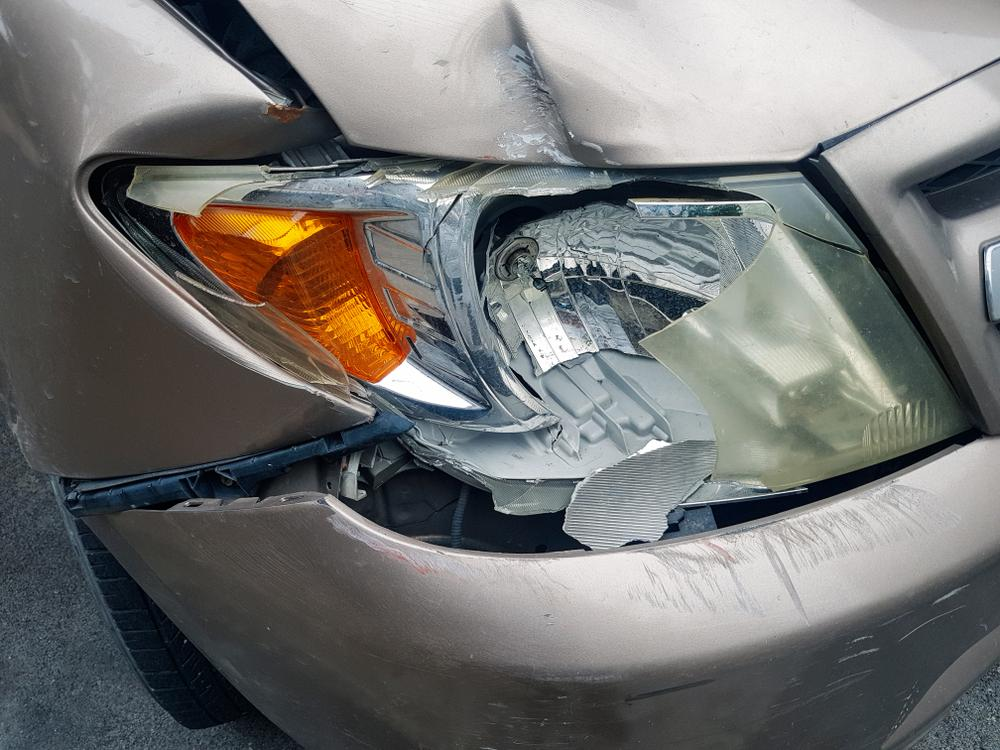dent: (463, 3, 595, 167)
lamp broken: (87, 151, 970, 537)
scratch: (327, 483, 968, 621), (477, 580, 977, 750)
